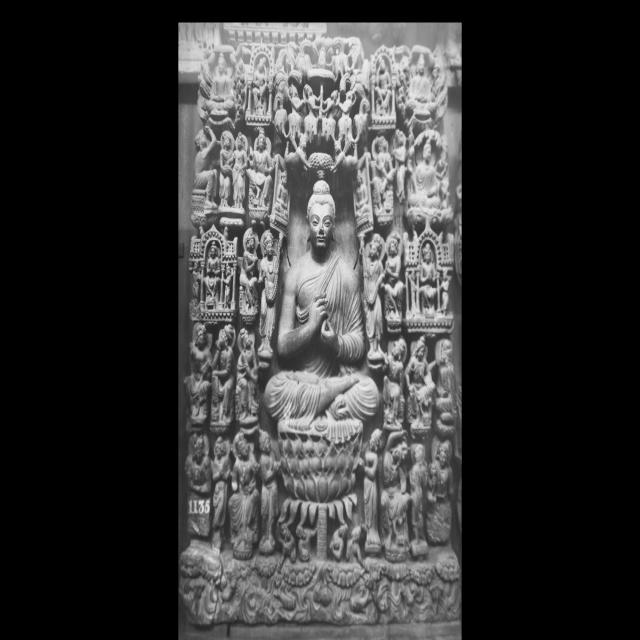buddha-sitting: (264, 180, 378, 553)
